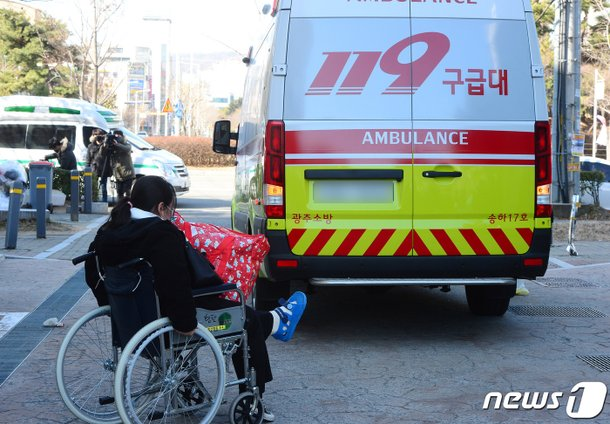wheelchair: (55, 175, 305, 424)
